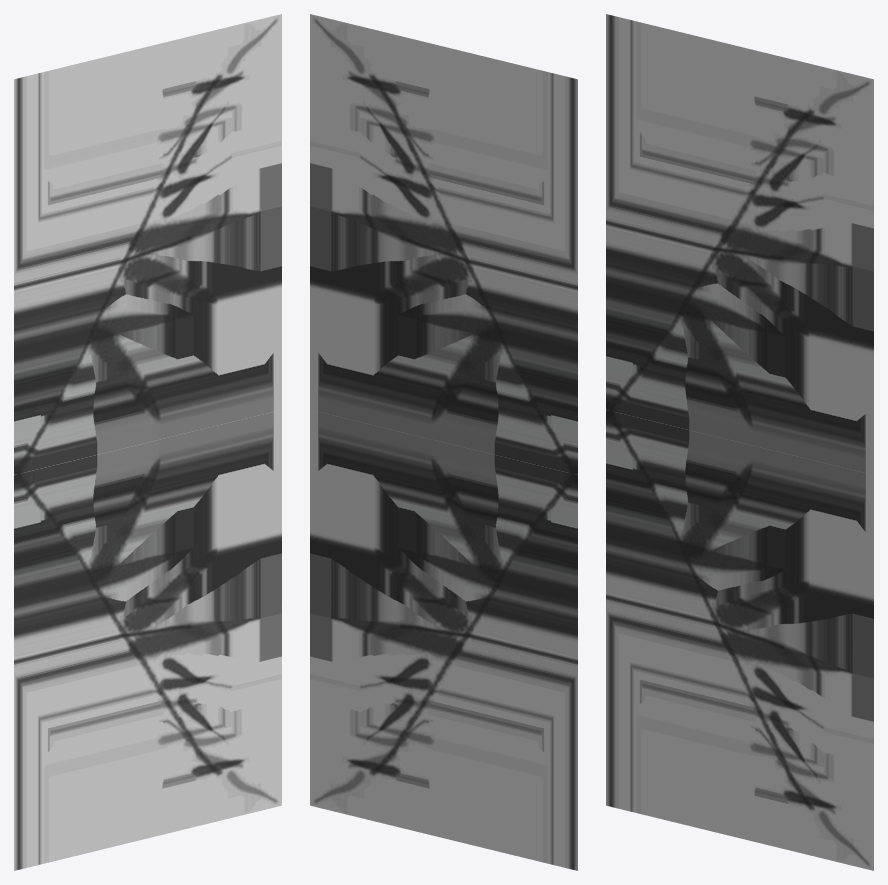
Rendered from PPX_REED16.fbx.
3 renders of one model, left to right at view 1: azimuth 30°, elevation 25°; view 2: azimuth 150°, elevation 25°; view 3: azimuth 330°, elevation 25°, orthographic.
Visible parts, largest first — view 1: 图层 1.png, 图层 1.png_2; view 2: 图层 1.png, 图层 1.png_2; view 3: 图层 1.png, 图层 1.png_2.
Boxes of the visible parts, x1,y1,x2,y2 form: 图层 1.png: [14, 14, 281, 474]; 图层 1.png_2: [14, 410, 281, 870]; 图层 1.png: [310, 14, 577, 474]; 图层 1.png_2: [310, 410, 577, 870]; 图层 1.png: [606, 14, 873, 474]; 图层 1.png_2: [606, 410, 873, 870].
Bounding box in the file's own units: 129 × 0 × 363.
1 material, 1 textured.
